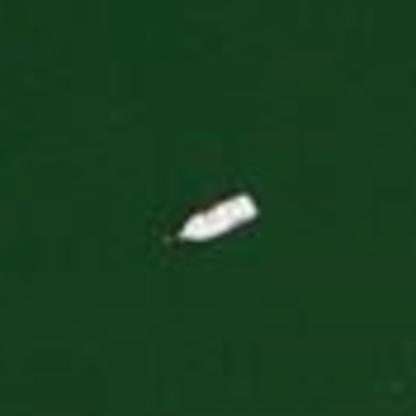ship: (167, 179, 268, 251)
